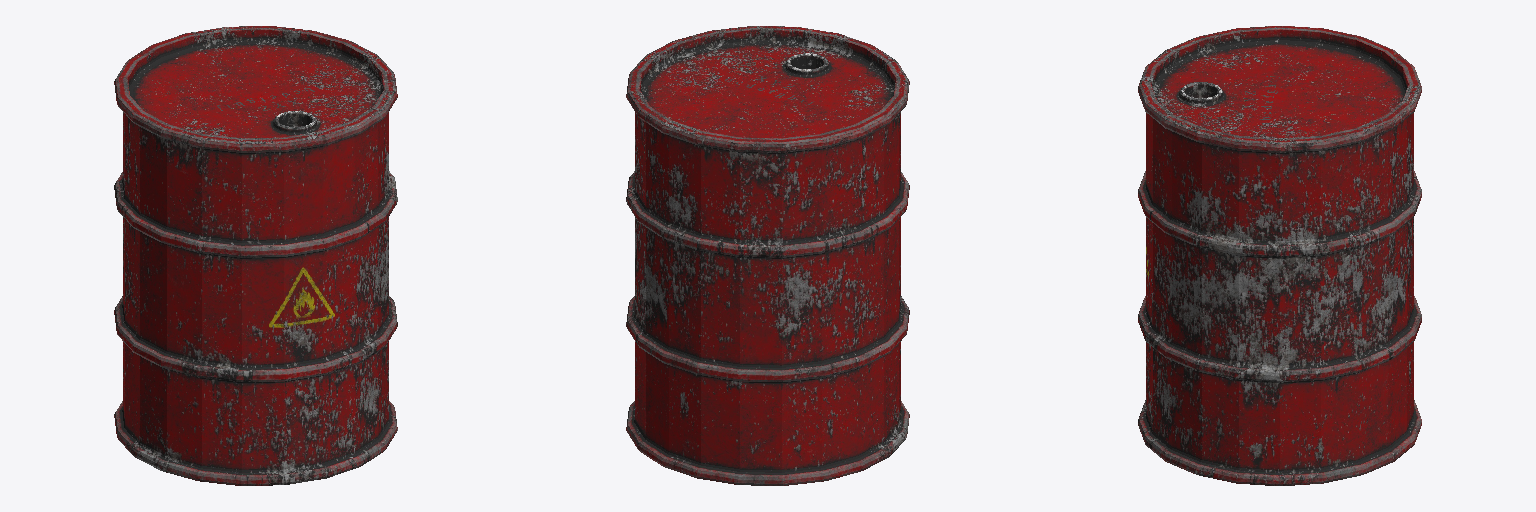
The picture shows the model from 3 angles: view 1: azimuth 30°, elevation 25°; view 2: azimuth 150°, elevation 25°; view 3: azimuth 270°, elevation 25°; orthographic projection.
Visible parts, largest first — view 1: pCylinder1_lambert1_0; view 2: pCylinder1_lambert1_0; view 3: pCylinder1_lambert1_0.
Boxes of the visible parts, <box> form: pCylinder1_lambert1_0: <box>114,26,397,485</box>; pCylinder1_lambert1_0: <box>626,26,909,485</box>; pCylinder1_lambert1_0: <box>1138,26,1421,485</box>.
Size of the model in its own units: 6.58 by 8.77 by 6.58.
1 materials, 1 textured.